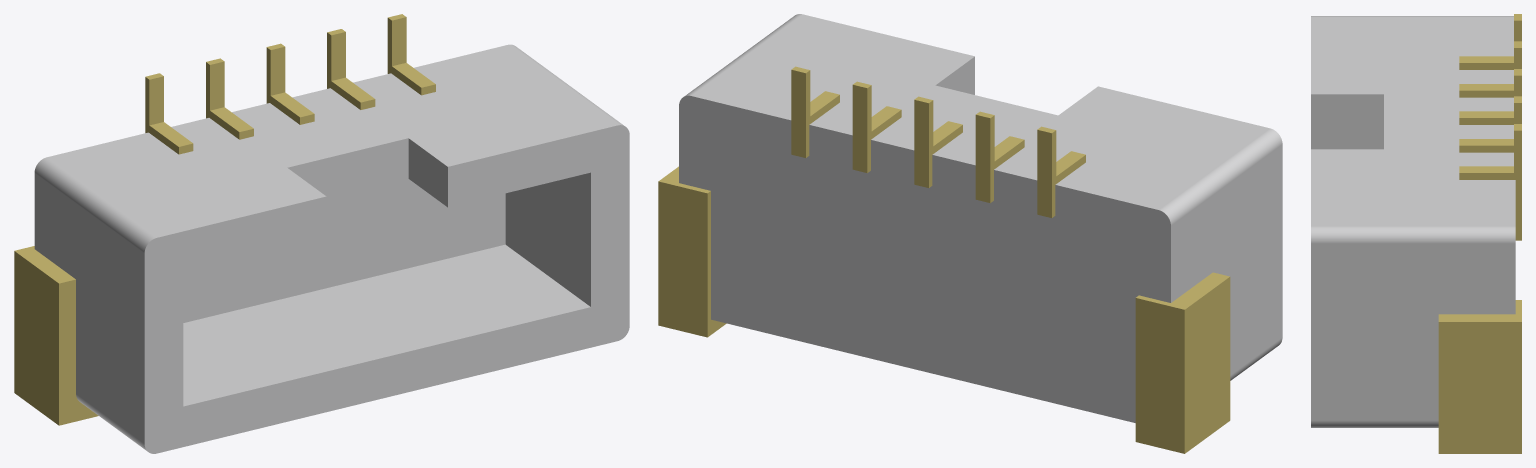
The model's file is jst_gh_5pin.glb.
The picture shows the model from 3 angles, left to right: view 1: azimuth 30°, elevation 25°; view 2: azimuth 150°, elevation 25°; view 3: azimuth 270°, elevation 25°; orthographic projection. The views are drawn at different scales.
Visible parts, largest first — view 1: world; view 2: world; view 3: world.
Boxes of the visible parts, bbox=[...] form: world: bbox=[14, 14, 629, 453]; world: bbox=[658, 14, 1282, 453]; world: bbox=[1311, 14, 1521, 453].
Size of the model in its own units: 10.7 by 5.6 by 4.05.
